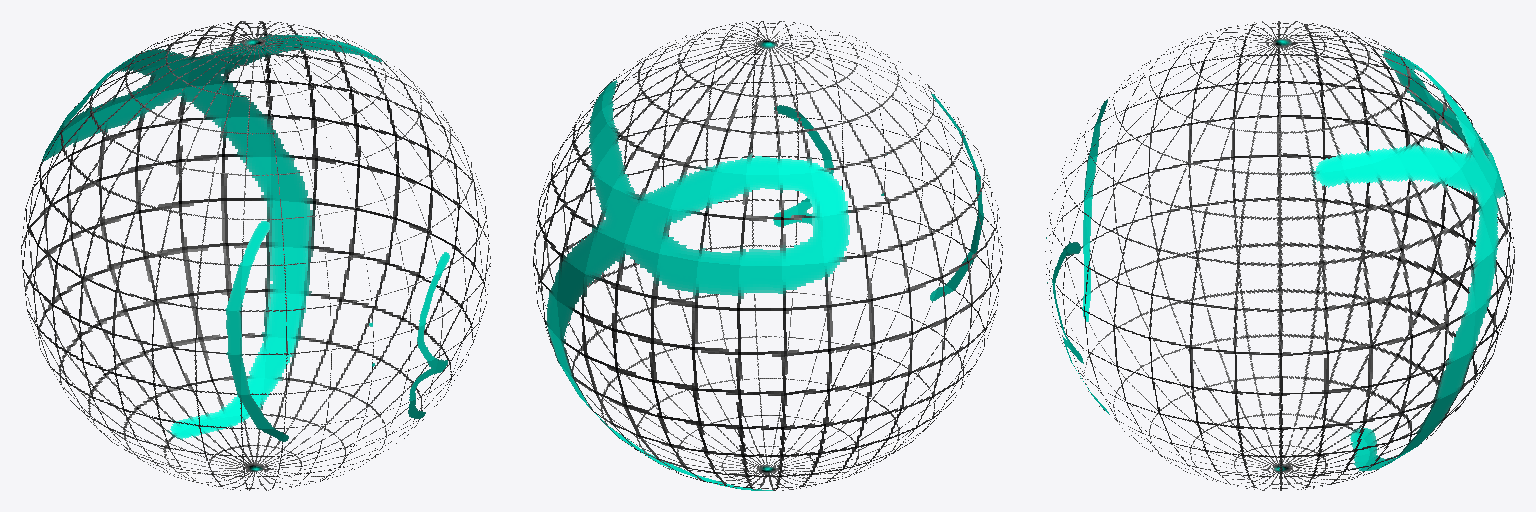
The picture shows the model from 3 angles: view 1: azimuth 30°, elevation 25°; view 2: azimuth 150°, elevation 25°; view 3: azimuth 270°, elevation 25°; orthographic projection.
Parts seen in each view (by area): view 1: Sphere; view 2: Sphere; view 3: Sphere.
Boxes of the visible parts, x1=… form: Sphere: x1=21, y1=21, x2=490, y2=490; Sphere: x1=533, y1=21, x2=1002, y2=490; Sphere: x1=1045, y1=21, x2=1514, y2=490.
Size of the model in its own units: 1 by 1 by 1.
1 materials, 1 textured.